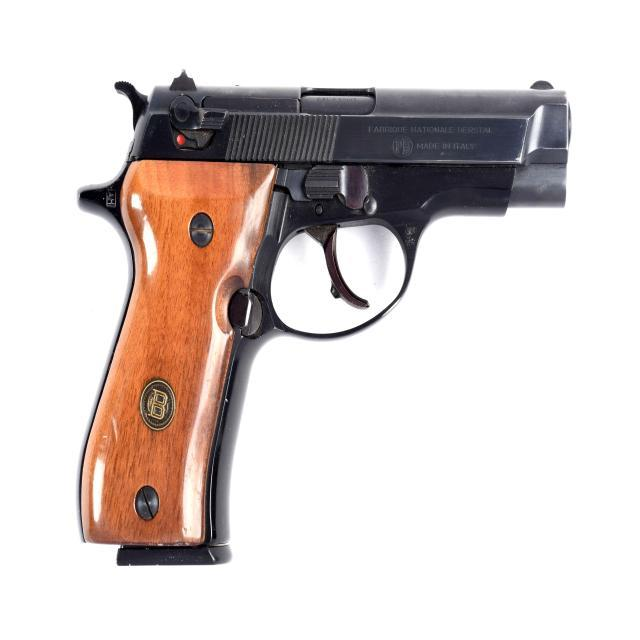Pistol: (68, 41, 584, 589)
